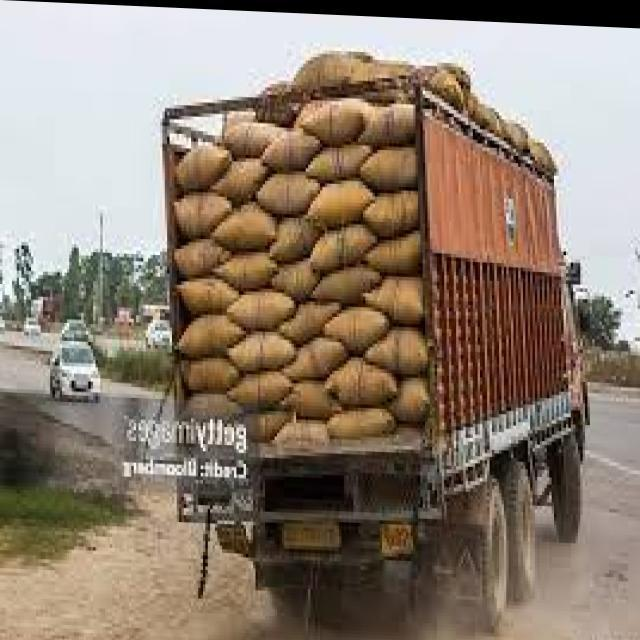uncovered: (168, 48, 587, 640)
